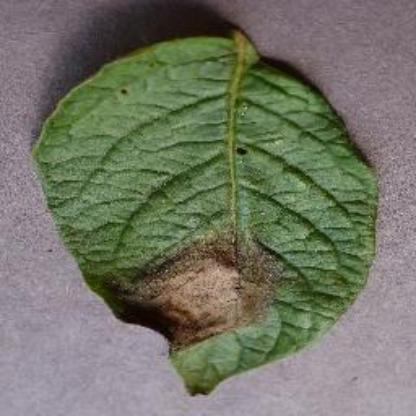Late-Blight: (25, 23, 386, 403)
